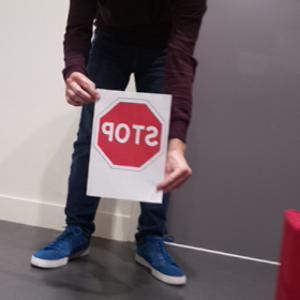stop: (95, 99, 167, 169)
